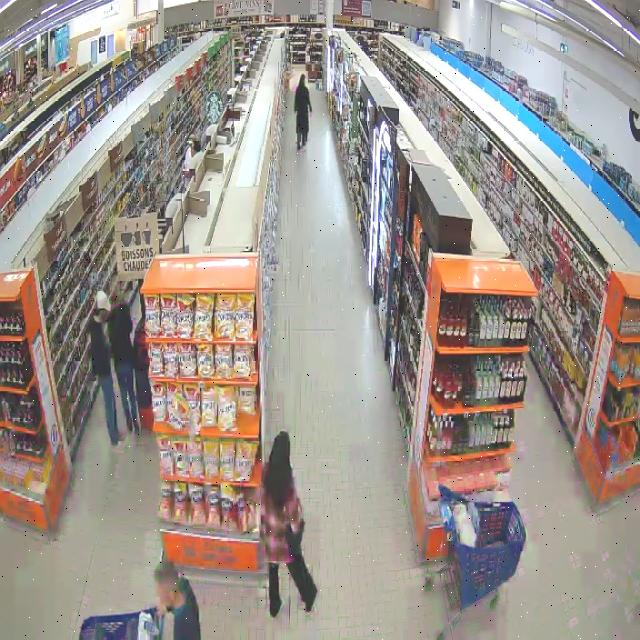bags: (285, 519, 304, 557)
hands: (157, 600, 167, 615)
person: (260, 432, 317, 617), (89, 292, 126, 452), (108, 299, 139, 434), (155, 559, 200, 639), (294, 75, 312, 149)
